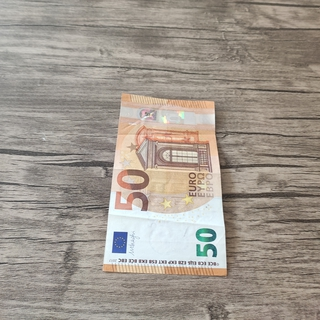50EUROFront: (100, 92, 228, 277)
